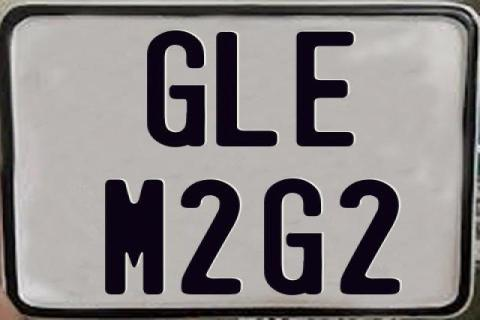0: (337, 178, 402, 294), (182, 180, 242, 296)
E: (293, 30, 355, 148)
G: (146, 28, 210, 146), (262, 176, 320, 294)
L: (215, 30, 280, 148)
M: (102, 177, 161, 293)
